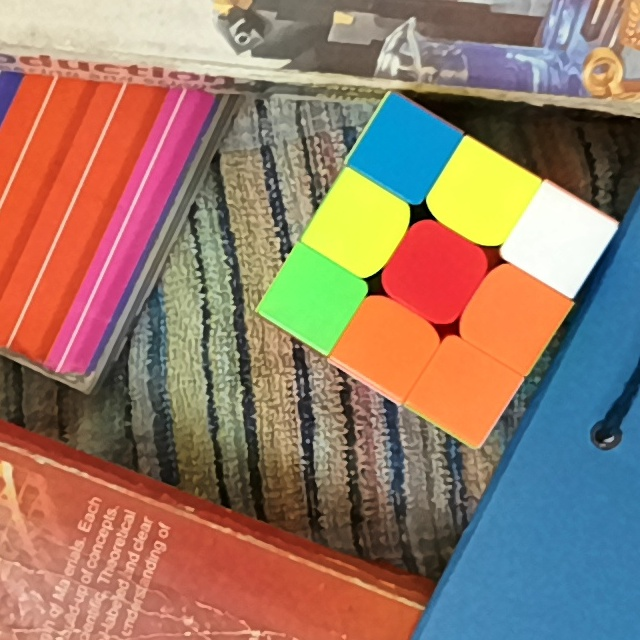tile: (482, 284, 544, 346), (449, 168, 510, 227), (328, 196, 387, 257), (432, 362, 493, 420), (405, 244, 464, 303), (359, 318, 418, 376), (532, 211, 588, 270), (284, 271, 341, 328), (374, 125, 433, 178)
